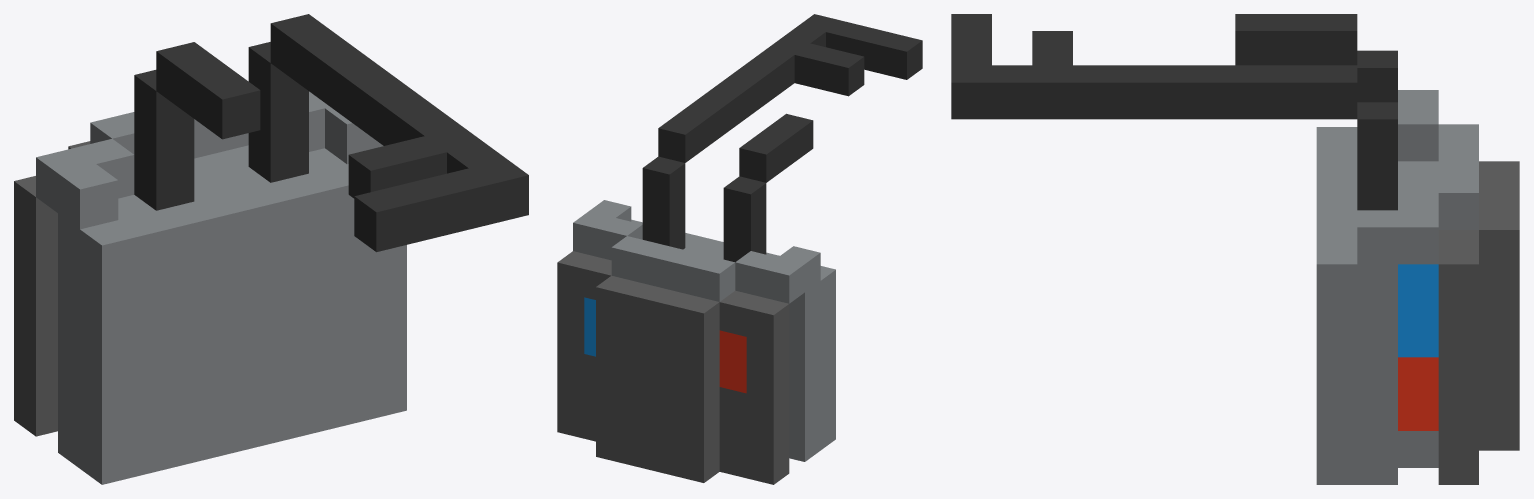
The model's file is Bag-7.obj.
3 renders of one model, left to right at view 1: azimuth 30°, elevation 25°; view 2: azimuth 150°, elevation 25°; view 3: azimuth 270°, elevation 25°, orthographic. The views are drawn at different scales.
Size of the model in its own units: 0.8 by 1 by 1.4.
Materials: 1 (1 with a texture image).
